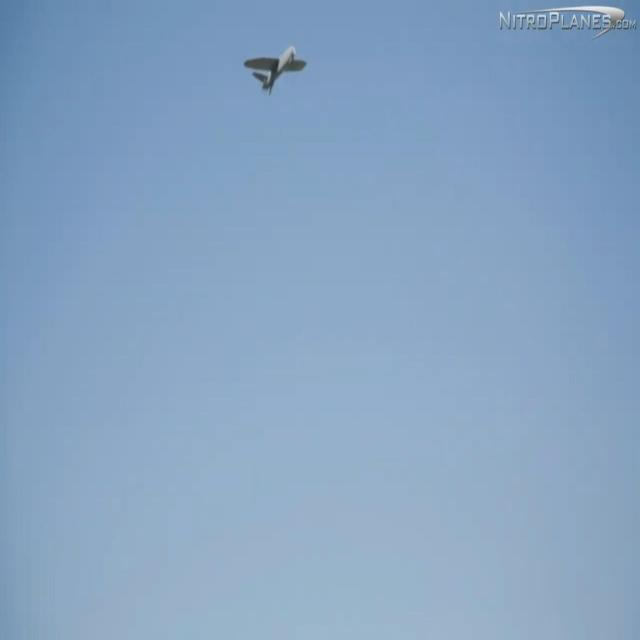UAV: (256, 39, 366, 122)
